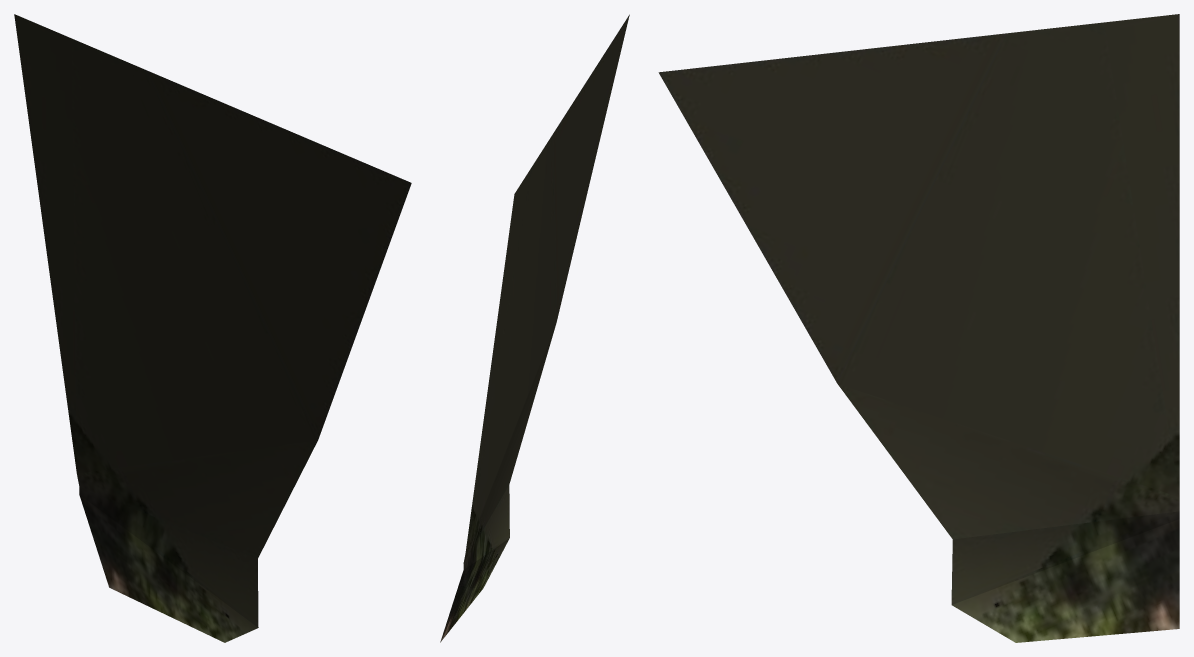
3 renders of one model, left to right at view 1: azimuth 30°, elevation 25°; view 2: azimuth 150°, elevation 25°; view 3: azimuth 270°, elevation 25°, orthographic. The views are drawn at different scales.
Bounding box in the file's own units: 0.6468 × 2.95 × 2.44.
2 materials, 2 textured.
